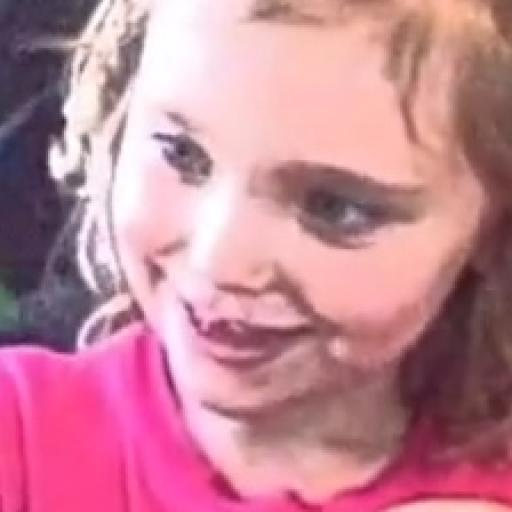Autism: (58, 4, 493, 512)
